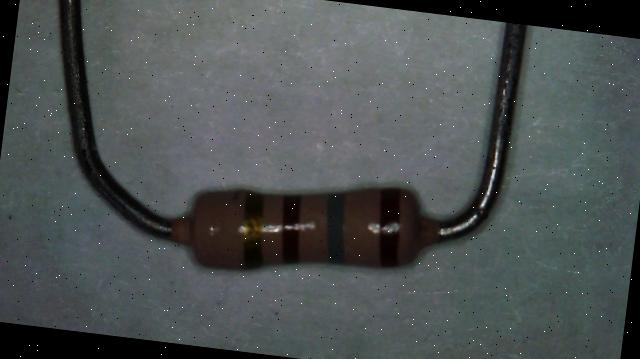brown: (372, 187, 407, 267), (277, 194, 306, 264)
gold: (238, 191, 272, 270)
grey: (320, 191, 353, 264)
resistor: (160, 144, 449, 317)
